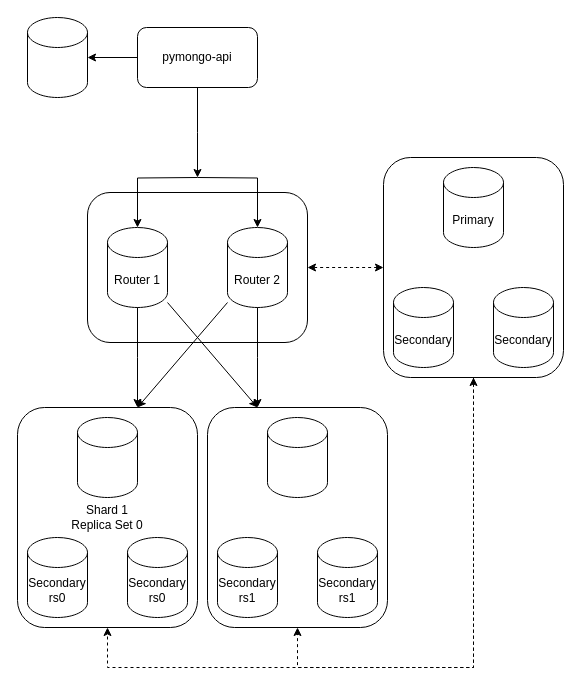
Some shapes in this 581 by 694 pixel diagram are drawn without their labels. The box of each missing label's shape, as (x1, y1, x2, y2) in pixels:
Config servers: (382, 156, 564, 378)
Primary rs0: (76, 416, 138, 498)
Primary rs1: (266, 416, 328, 498)
Redis: (26, 16, 88, 98)
Shard 2 Replica Set 1: (206, 406, 388, 628)
